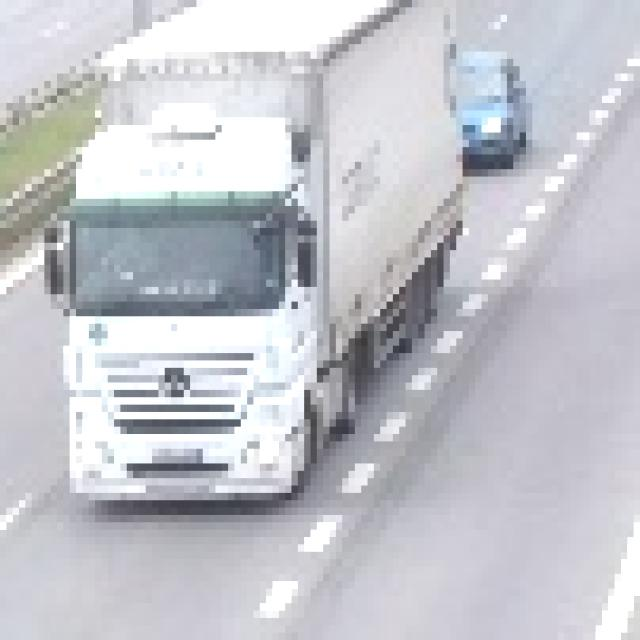TRUCK: (48, 0, 470, 507)
